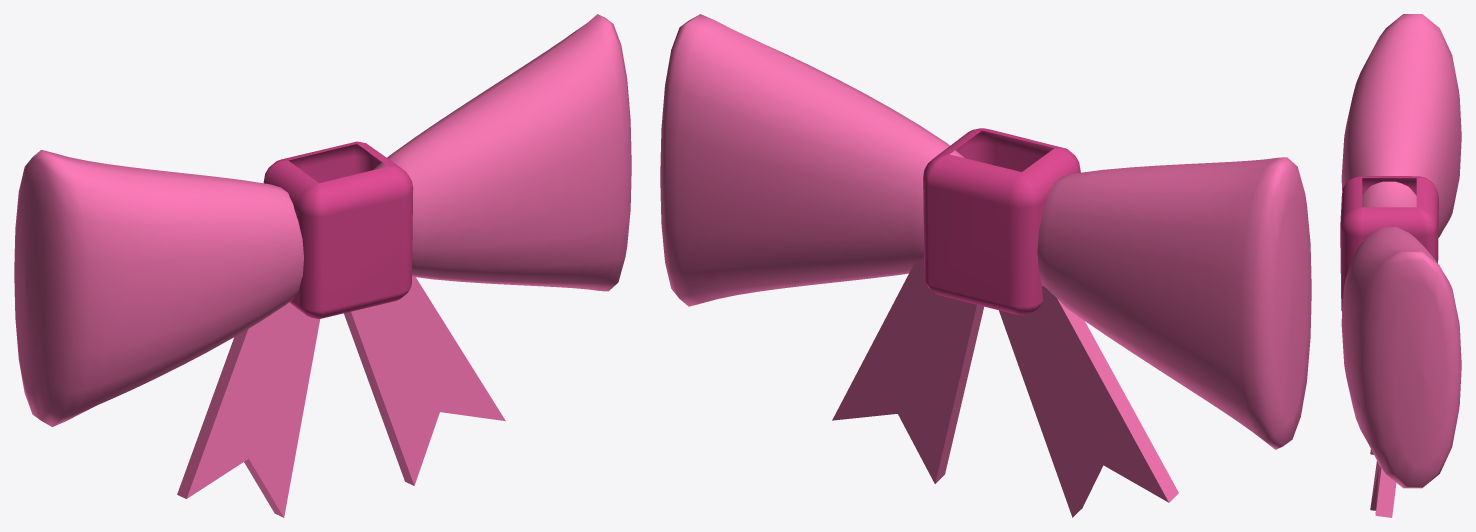
File: laco_rosa.obj
The picture shows the model from 3 angles, left to right: view 1: azimuth 30°, elevation 25°; view 2: azimuth 150°, elevation 25°; view 3: azimuth 270°, elevation 25°; orthographic projection. The views are drawn at different scales.
Parts seen in each view (by area): view 1: Laco_Rosa; view 2: Laco_Rosa; view 3: Laco_Rosa.
Part boxes in pixels (x1,y1,x2,y2): Laco_Rosa: (14, 14, 631, 517); Laco_Rosa: (660, 14, 1311, 517); Laco_Rosa: (1340, 14, 1461, 517).
Size of the model in its own units: 0.78 by 0.5104 by 0.16.
